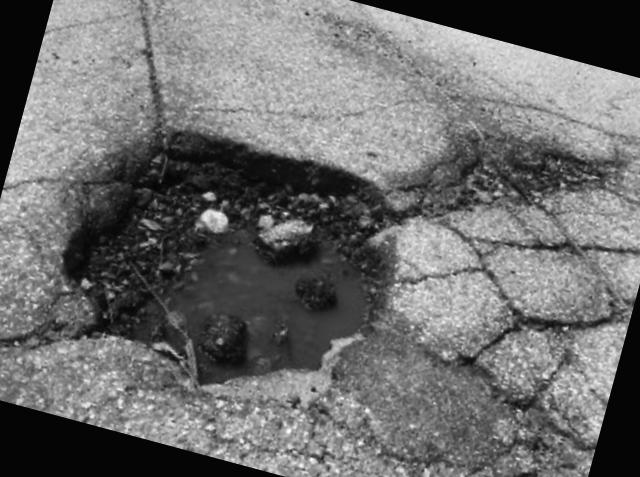Pothole: (21, 64, 492, 470)
